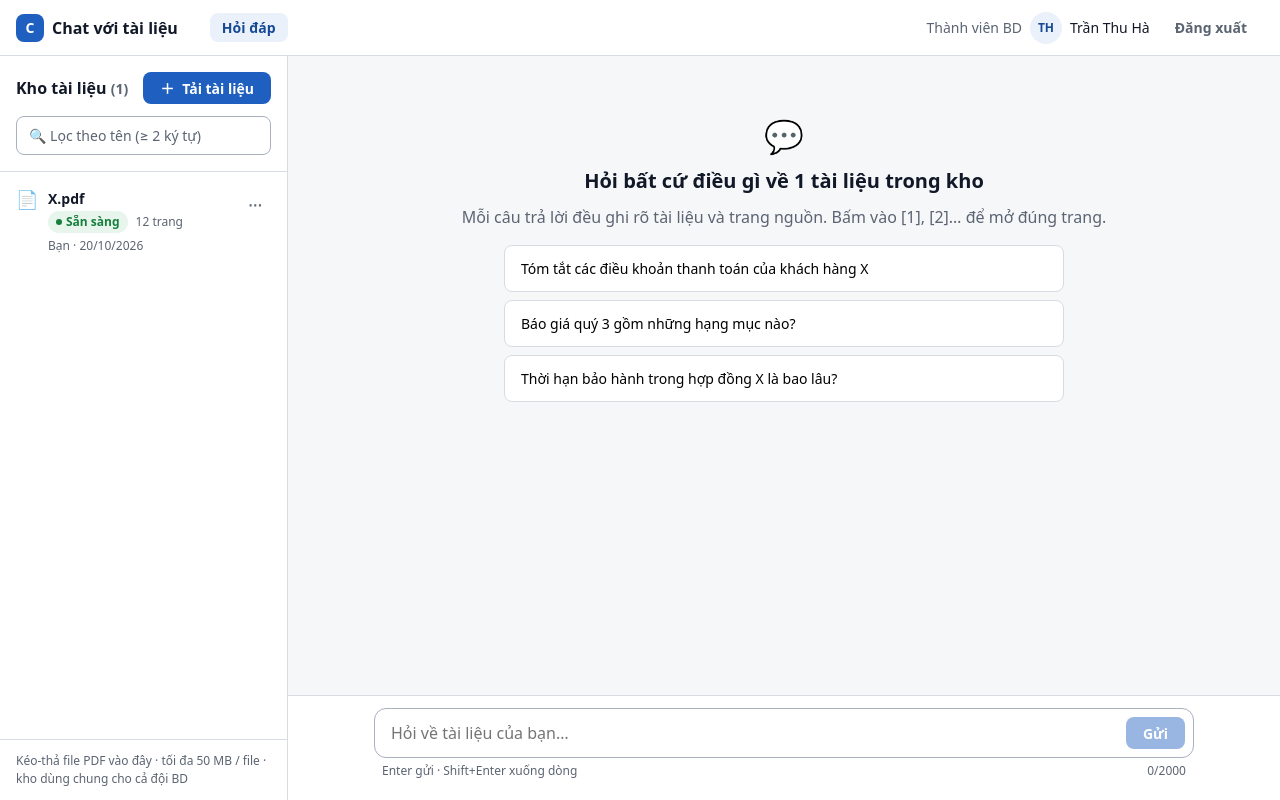
US-204 remove › a refused removal puts the row back
The width and height of the screenshot is (1280, 800).
Click the button named "Tuỳ chọn cho X.pdf": (255, 204) [239,188,271,220]
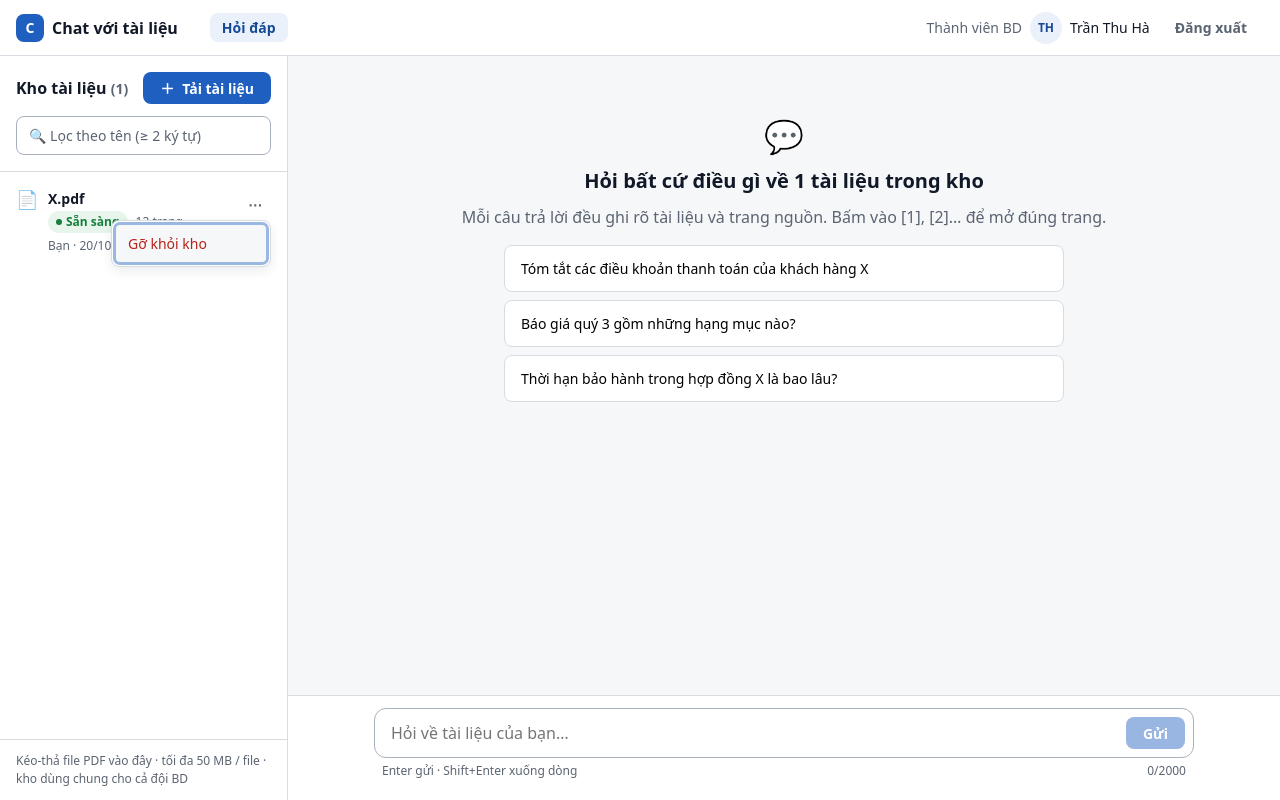
Click the menu item "Gỡ khỏi kho": (191, 244) [116,225,266,262]
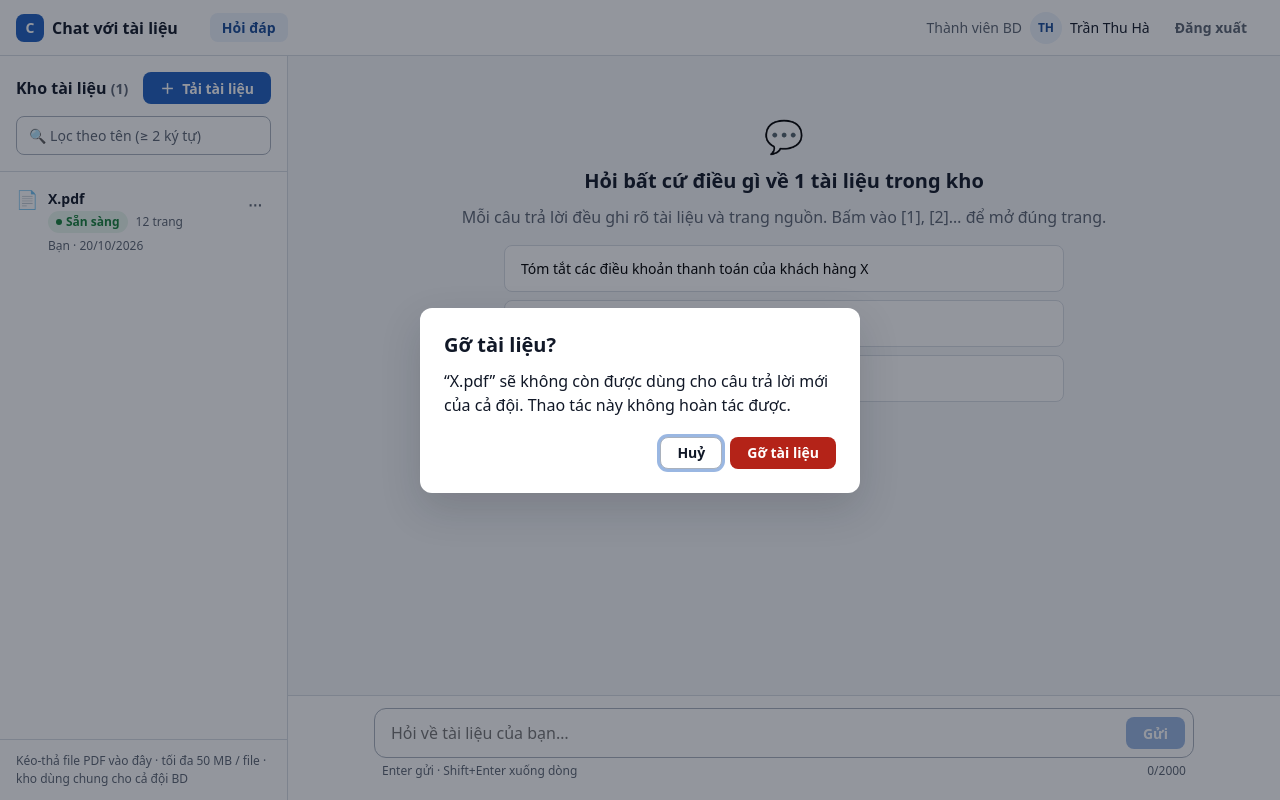
Click the button "Gỡ tài liệu": (783, 452) [730,436,836,468]
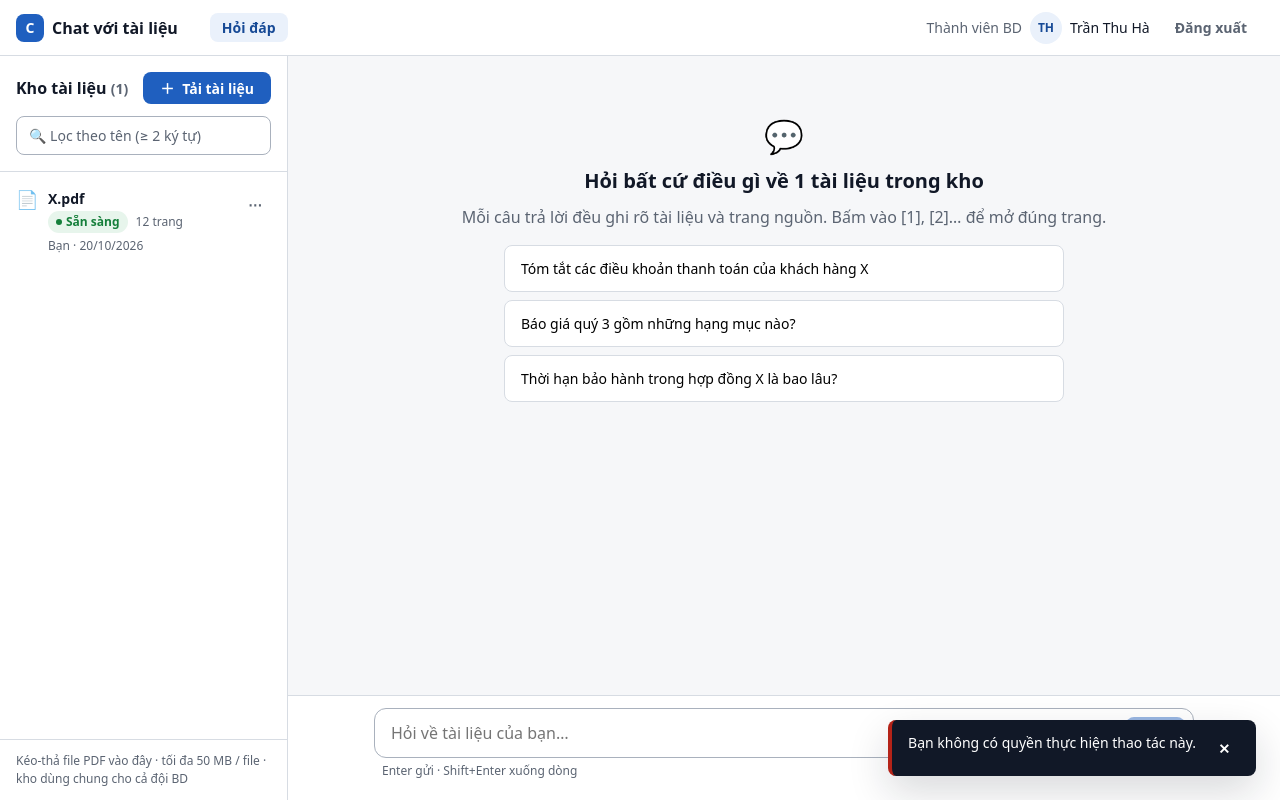
Expected: the text "X.pdf" is shown, [48,189,84,208]
Now the text "Bạn không có quyền thực hiện thao tác này." is shown, box [908,732,1196,753]
